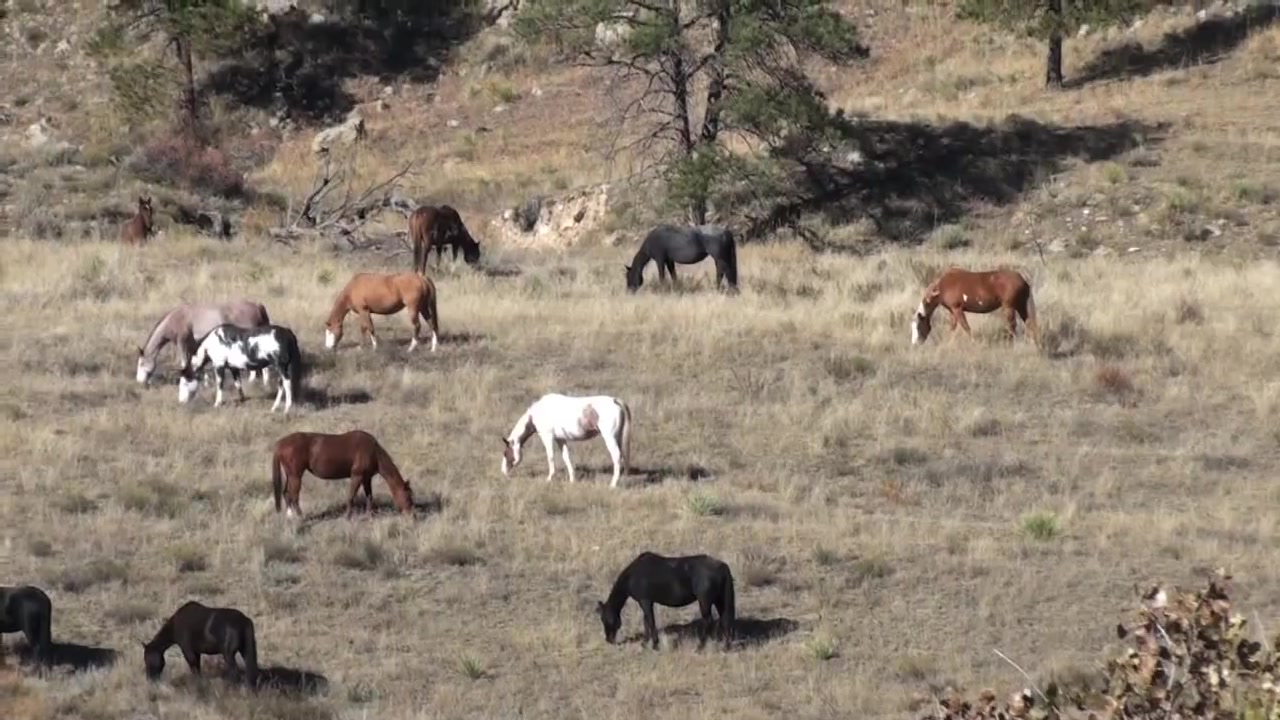horse: (620, 225, 745, 294)
